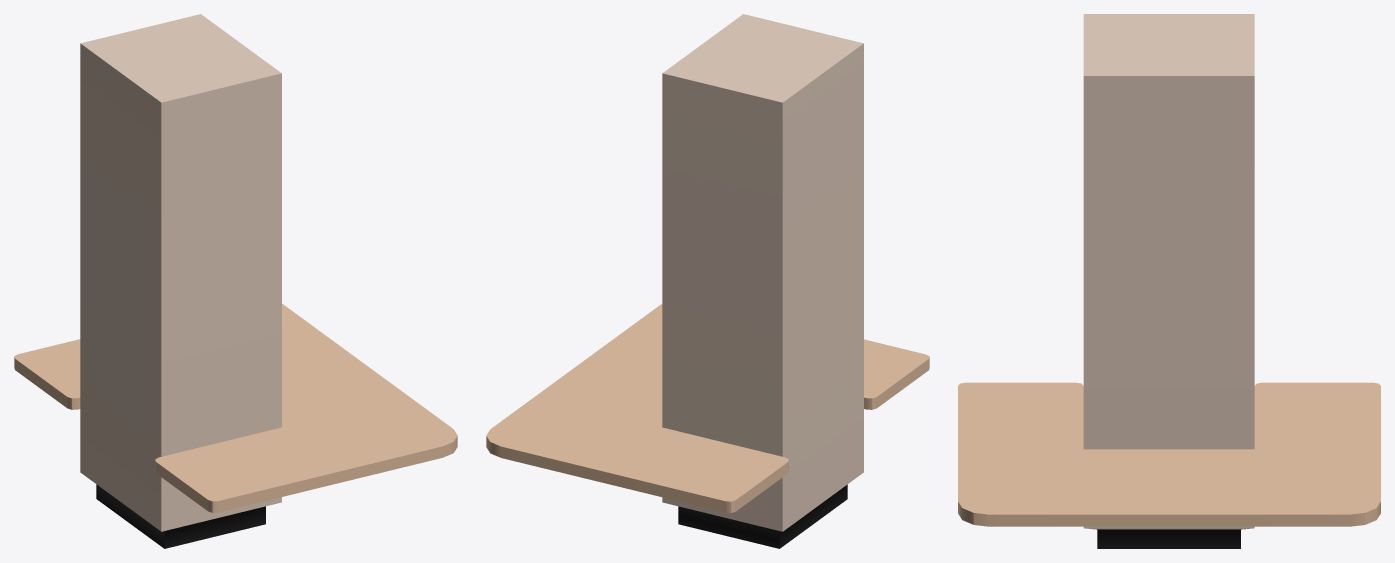
Rendered from C-Shaped_column.fbx.
The picture shows the model from 3 angles, left to right: view 1: azimuth 30°, elevation 25°; view 2: azimuth 150°, elevation 25°; view 3: azimuth 270°, elevation 25°; orthographic projection. The views are drawn at different scales.
Visible parts, largest first — view 1: column, C_Table; view 2: column, C_Table; view 3: column, C_Table.
Boxes of the visible parts, <box> form: column: <box>80,14,281,548</box>; C_Table: <box>14,304,457,512</box>; column: <box>662,14,863,548</box>; C_Table: <box>486,304,929,512</box>; column: <box>1083,14,1254,548</box>; C_Table: <box>958,382,1380,526</box>.
Size of the model in its own units: 0.7089 by 1.2 by 0.9589.
